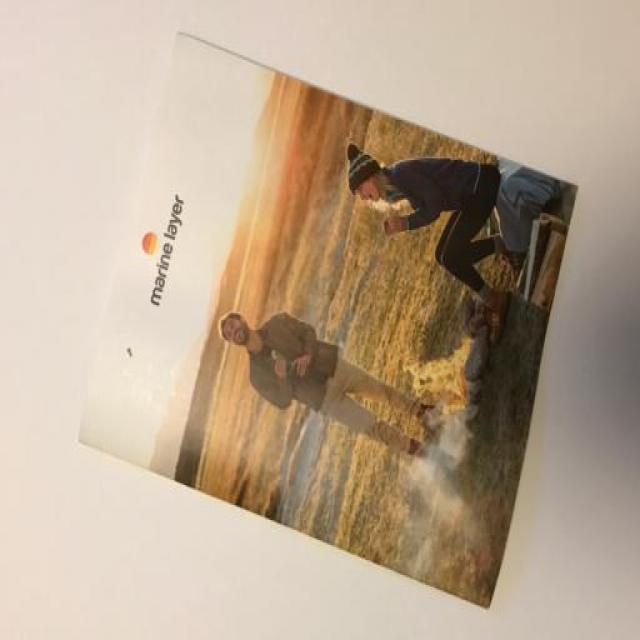paper: (104, 45, 580, 602)
